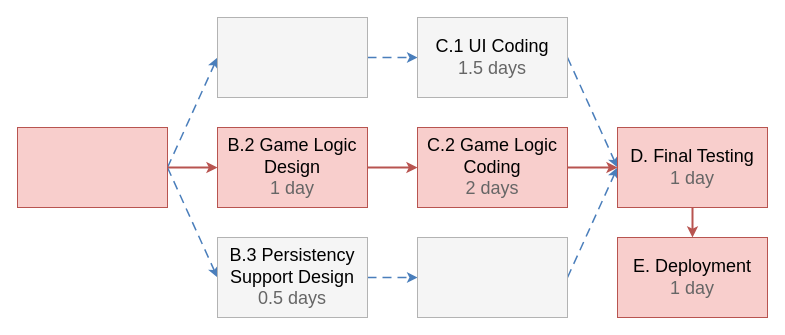
Image size: 785x335. Some labels were removed from this diagram. The centre of each missing label's shape, as x and y in pixels:
A. High level design 1 day: [92,167]
B.1 UI Design 0.5 days: [292,57]
C.3 Persistency Support Coding 1 day: [492,277]
